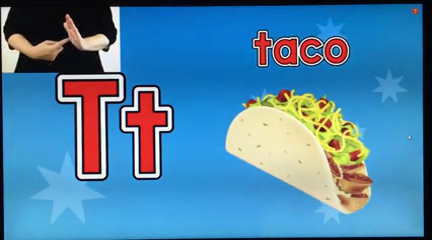T: (31, 9, 96, 67)
